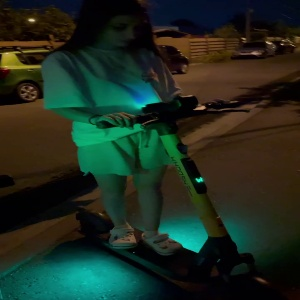human on a scooter: (28, 1, 275, 297)
